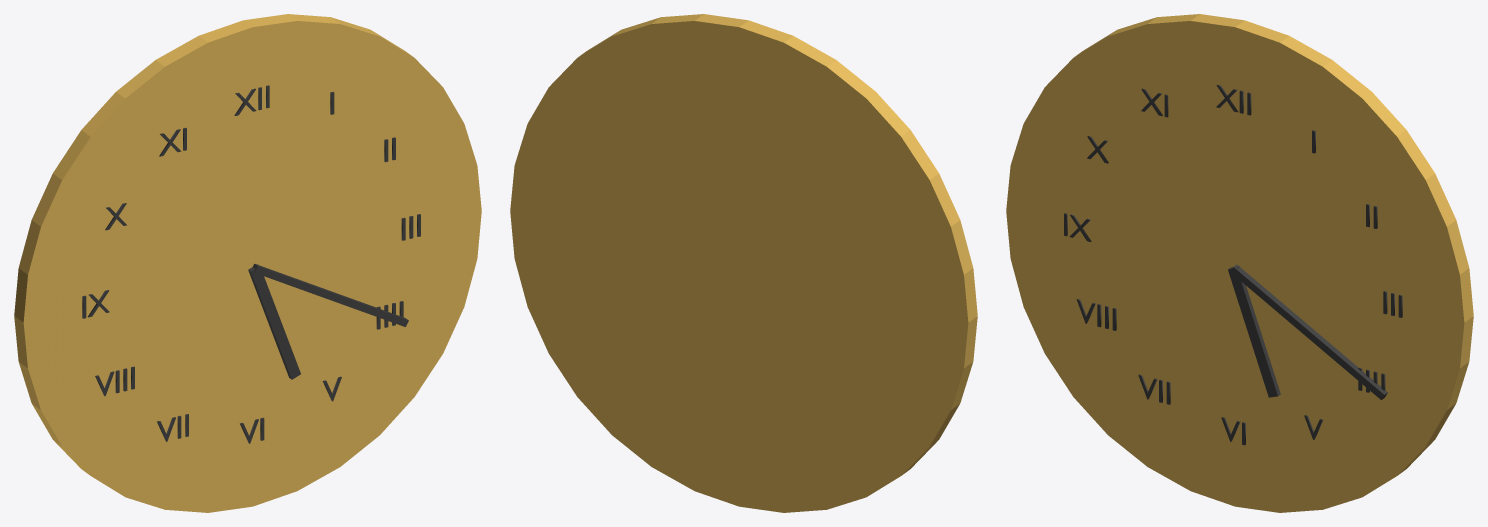
File: clock.glb
3 views of the same model, side by side, from view 1: azimuth 30°, elevation 25°; view 2: azimuth 150°, elevation 25°; view 3: azimuth 330°, elevation 25° (orthographic).
Visible parts, largest first — view 1: Rim, Hour_Hand.001, Minute_Hand.001; view 2: Rim; view 3: Rim, Minute_Hand.001, Hour_Hand.001, Minute_Hand.
Part boxes in pixels (left/top/right/bottom): Rim: left=14, top=14, right=481, bottom=512; Hour_Hand.001: left=248, top=265, right=300, bottom=379; Minute_Hand.001: left=254, top=264, right=408, bottom=326; Rim: left=510, top=14, right=977, bottom=512; Rim: left=1006, top=14, right=1473, bottom=512; Minute_Hand.001: left=1230, top=266, right=1386, bottom=399; Hour_Hand.001: left=1228, top=267, right=1280, bottom=397; Minute_Hand: left=1235, top=264, right=1387, bottom=397.
Size of the model in its own units: 4.2 by 4.2 by 0.205.
